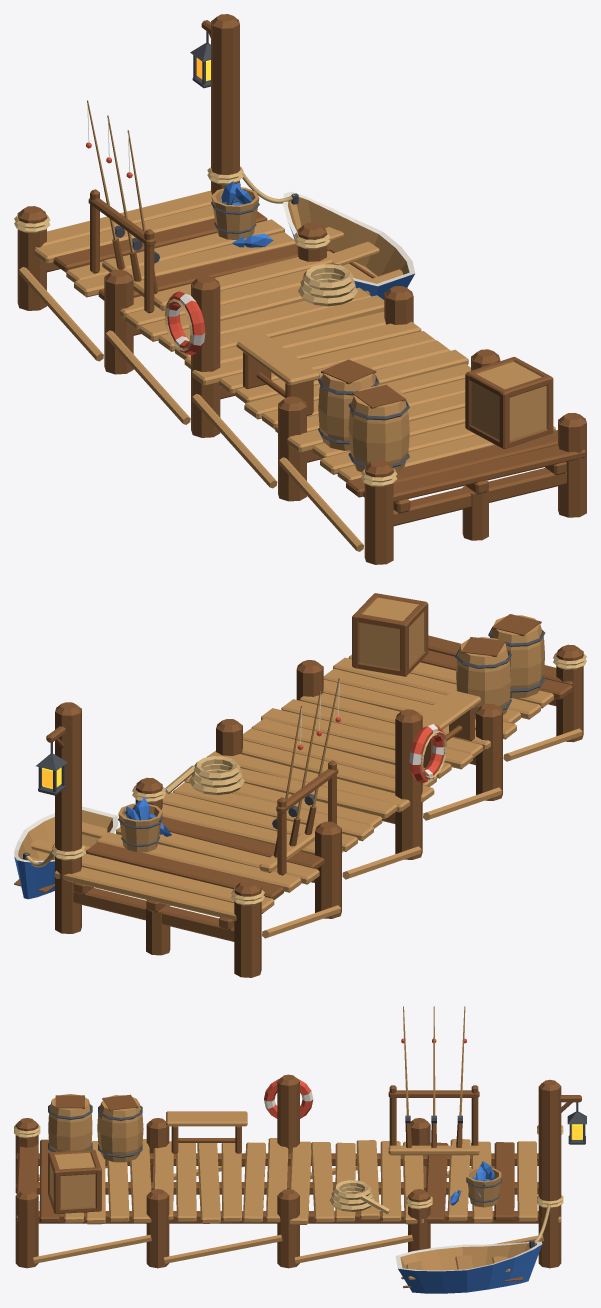
Rendered from wooden-fishing-dock.glb.
3 views of the same model, one above another, from view 1: azimuth 30°, elevation 25°; view 2: azimuth 150°, elevation 25°; view 3: azimuth 270°, elevation 25° (orthographic). The views are drawn at different scales.
Visible parts, largest first — view 1: Rowboat, Post_R_4, Crate, Plank_00, Barrel_1, Joist_0, Post_L_2, Plank_13, Plank_11, Post_L_0, Plank_01, Plank_19 (+39 smaller); view 2: Post_R_4, Crate, Rowboat, Plank_23, Post_L_2, Joist_4, Plank_21, Barrel_2, Plank_22, Plank_11, Barrel_1, Plank_20 (+42 smaller); view 3: Rowboat, Post_R_4, Barrel_2, Barrel_1, Crate, Plank_08, Plank_10, Plank_22, Plank_13, Plank_07, Post_R_0, Plank_09 (+39 smaller).
Part boxes in pixels (x1,y1,x2,y2): Rowboat: (283,191,415,299); Post_R_4: (211,19,239,194); Crate: (471,361,546,440); Plank_00: (363,445,585,502); Barrel_1: (348,386,409,472); Joist_0: (393,468,566,526); Post_L_2: (191,281,220,437); Plank_13: (175,295,384,359); Plank_11: (192,321,421,385); Post_L_0: (364,465,393,564); Plank_01: (346,430,557,497); Plank_19: (74,232,295,297); Post_R_4: (55,707,81,933); Crate: (359,597,424,669); Rowboat: (14,806,118,899); Plank_23: (54,867,236,920); Post_L_2: (395,714,422,859); Joist_4: (73,887,234,941); Plank_21: (86,842,283,900); Barrel_2: (456,637,510,719); Plank_22: (82,853,274,913); Plank_11: (242,740,434,802); Barrel_1: (490,615,544,698); Plank_20: (96,832,301,892); Rowboat: (395,1241,542,1293); Post_R_4: (538,1083,561,1268); Barrel_2: (97,1095,143,1162); Barrel_1: (48,1094,92,1151); Crate: (50,1152,95,1208); Plank_08: (197,1143,220,1223); Plank_10: (243,1142,265,1222); Plank_22: (517,1141,537,1221); Plank_13: (311,1142,334,1222); Plank_07: (176,1143,196,1221); Post_R_0: (15,1192,38,1268); Plank_09: (221,1143,241,1222).
Bounding box in the file's own units: 12.41 × 9 × 25.2.
